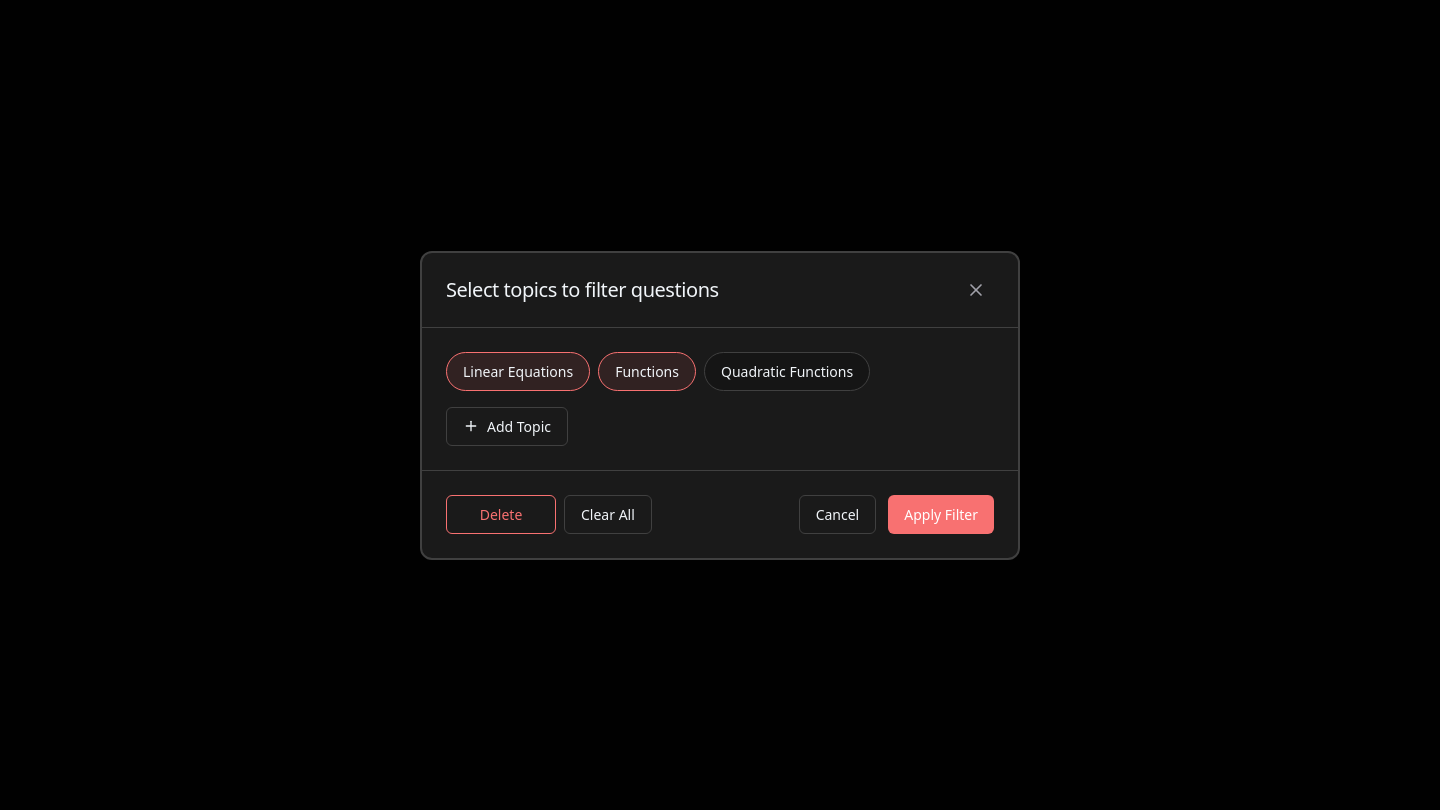
Test: TopicModal › Delete uses snapshot selection: if selection changes after starting delete, confirmation deletes the original snapshot
Expected: the button "Linear Equations" is shown, [446,352,590,390]
# start delete (snapshot is 1,2)
Click the button "Delete" at (501, 514), box [446,494,556,534]
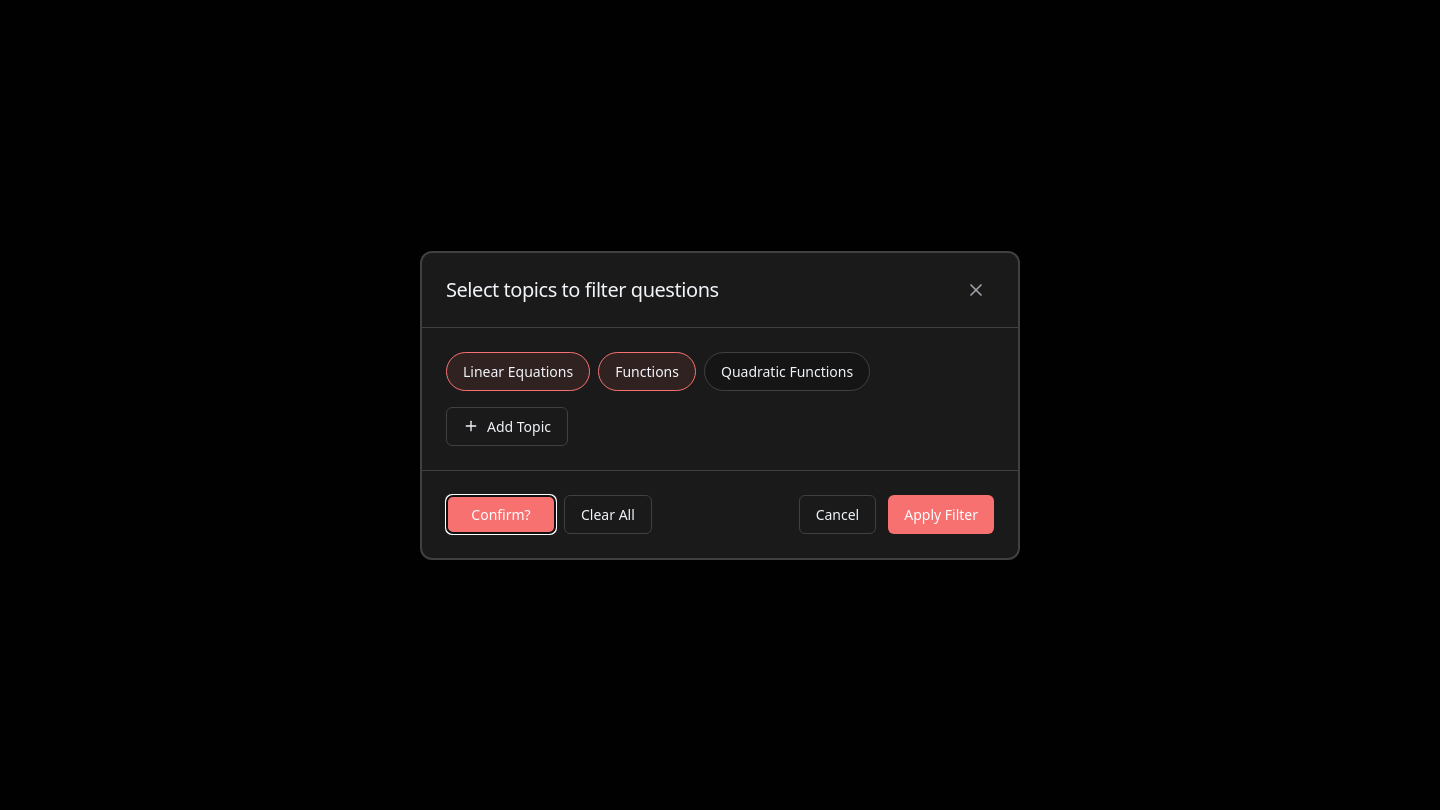
Expected: the button "Confirm?" is shown, [446,494,556,534]
# change selection: unselect 2, select 3
Click the button "Functions" at (647, 371), box [598,352,696,390]
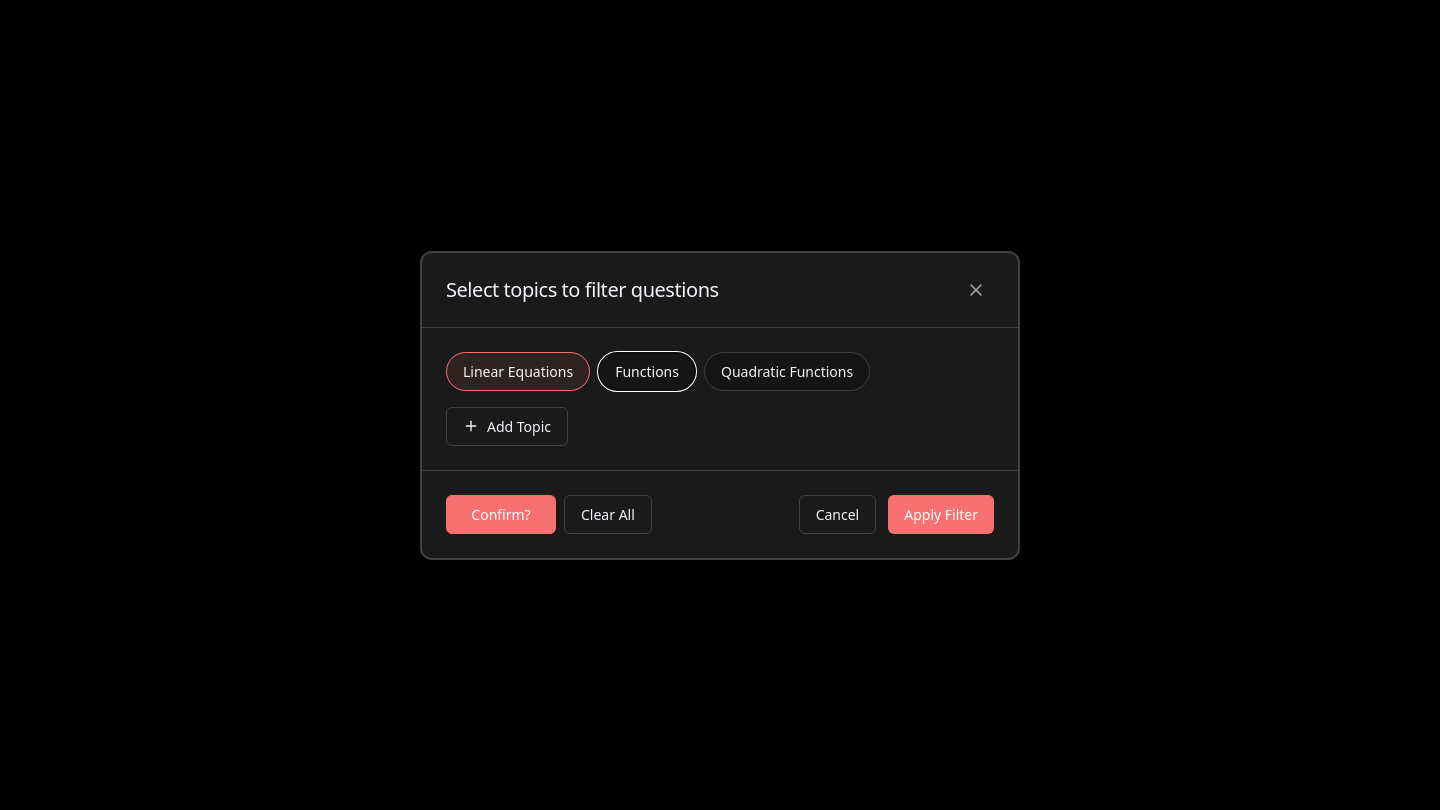
Click the button "Quadratic Functions" at (787, 371), box [704,352,870,390]
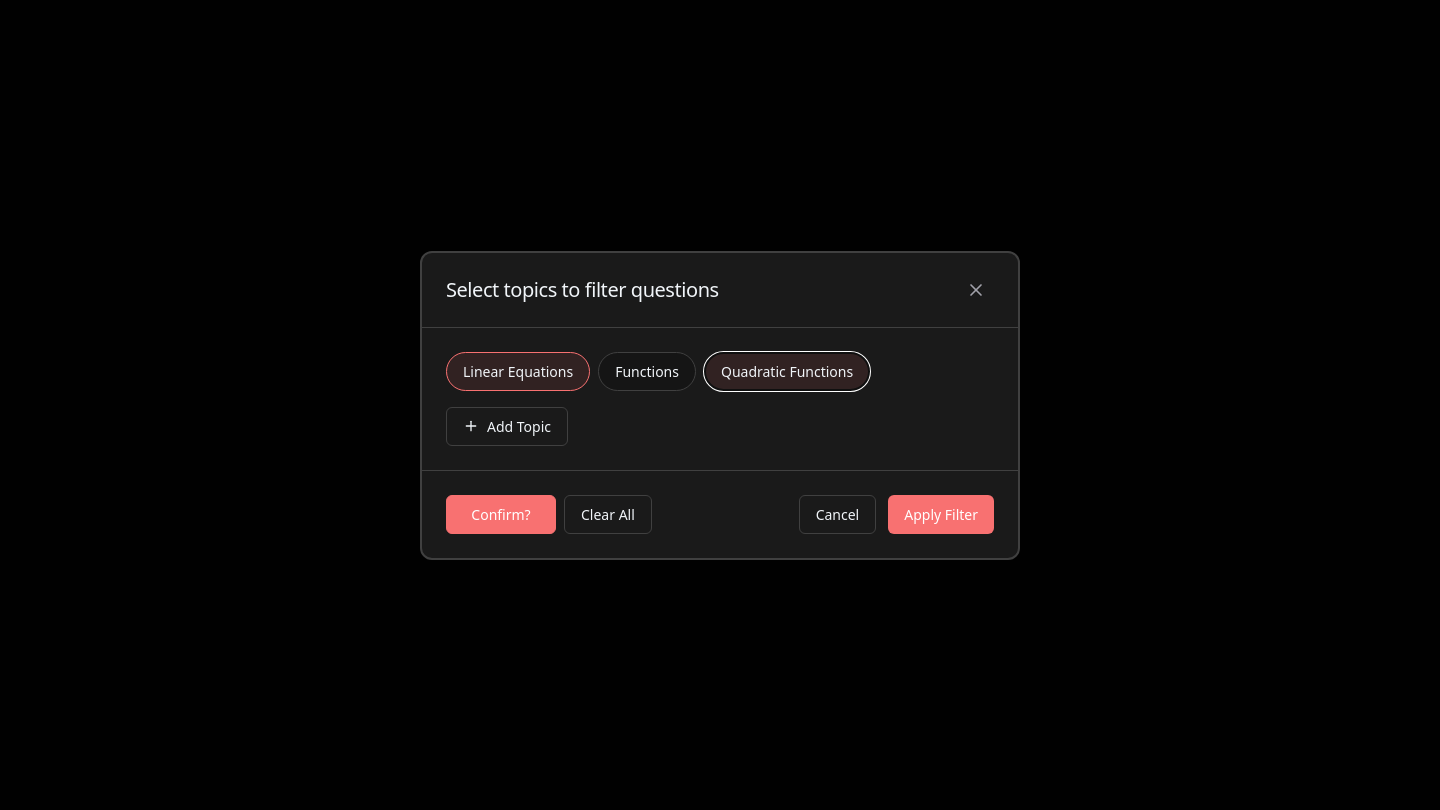
Click the button "Confirm?" at (501, 514), box [446,494,556,534]
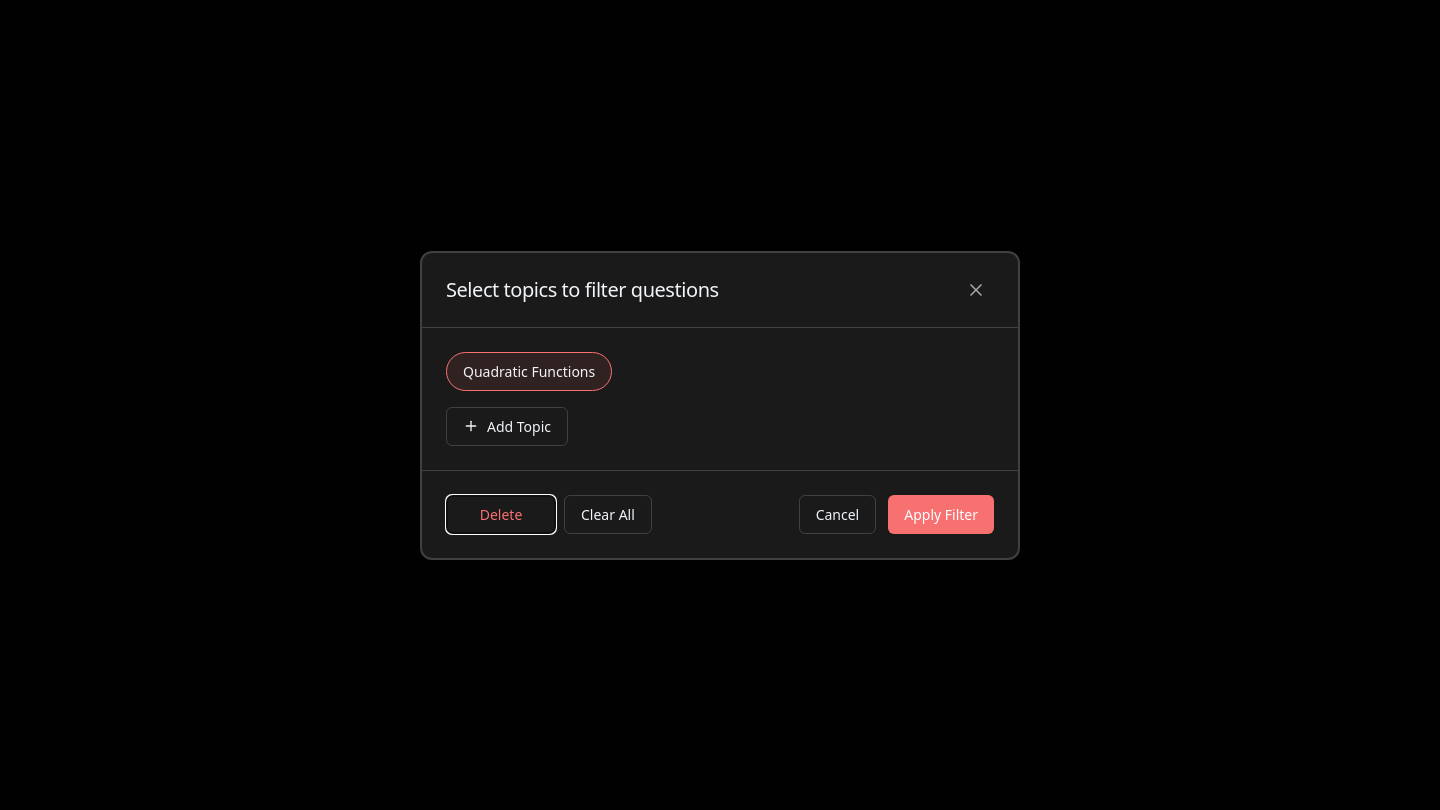
Expected: the button "Quadratic Functions" is shown, [446,352,612,390]
Expected: the button "Linear Equations" is gone
